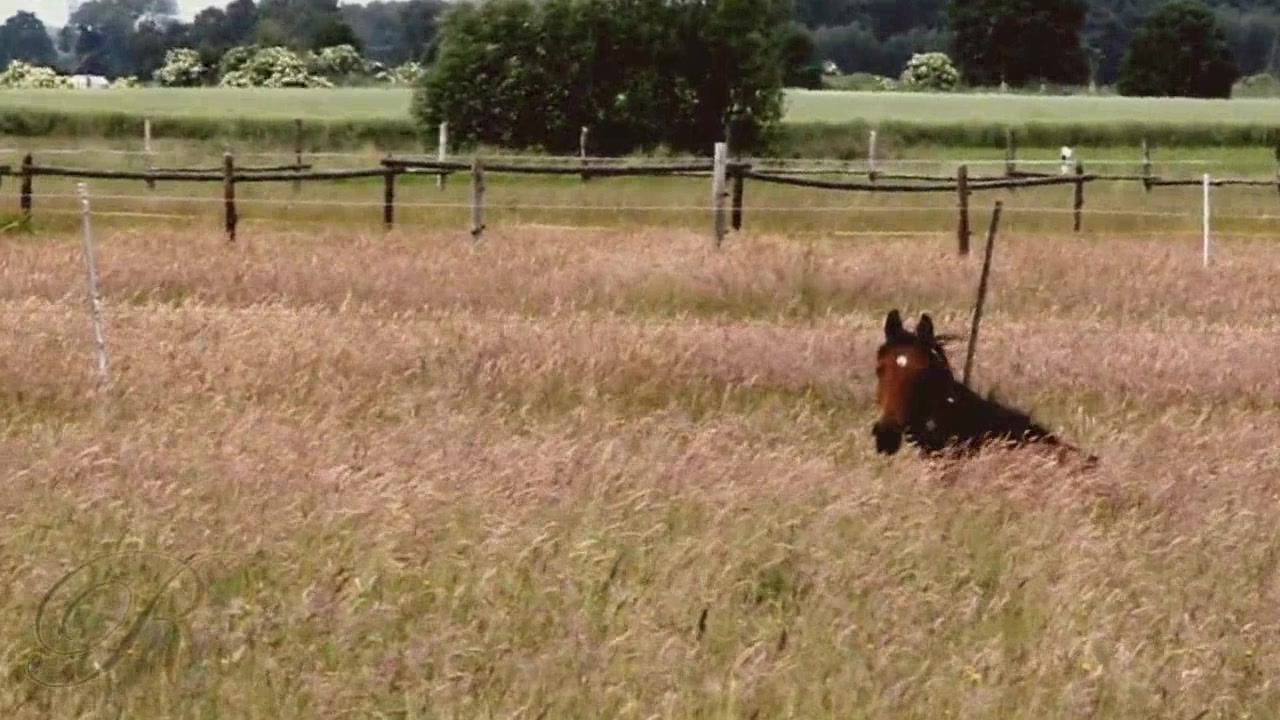horse: (869, 307, 1094, 478)
